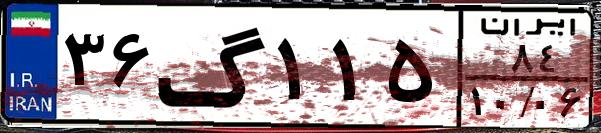0: (495, 70, 520, 125), (535, 70, 560, 125)
1: (270, 28, 330, 110), (330, 28, 385, 110), (470, 70, 495, 125)
3: (57, 26, 110, 100)
4: (537, 27, 568, 80)
5: (385, 28, 445, 110)
6: (110, 28, 156, 98), (560, 70, 590, 125)
8: (508, 27, 537, 80)
گ: (156, 12, 270, 120)
